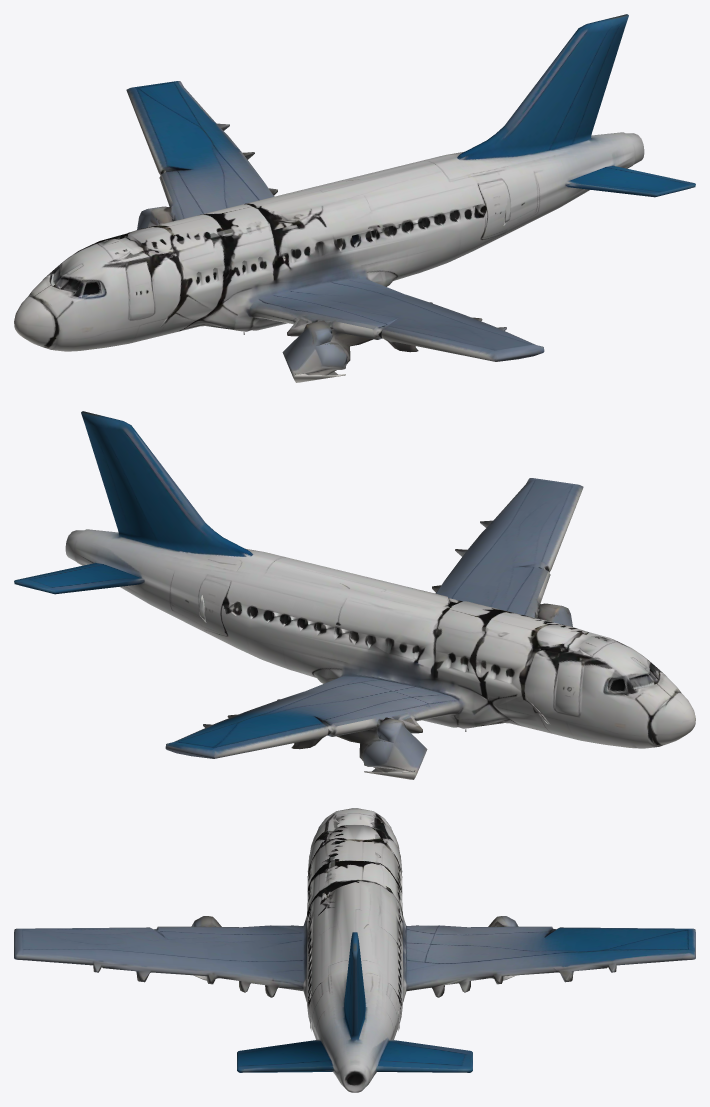
File: Vehicles__broken_aeroplane_7b464903_v3.cluster.glb
3 renders of one model, top to bottom at view 1: azimuth 30°, elevation 25°; view 2: azimuth 150°, elevation 25°; view 3: azimuth 270°, elevation 25°, orthographic. The views are drawn at different scales.
Parts seen in each view (by area): view 1: material; view 2: material; view 3: material.
Part boxes in pixels (x1=…): material: x1=14, y1=14, x2=695, y2=382; material: x1=14, y1=411, x2=695, y2=779; material: x1=14, y1=808, x2=695, y2=1092.
Bounding box in the file's own units: 1.86 × 0.6074 × 1.9.
1 material, 1 textured.
